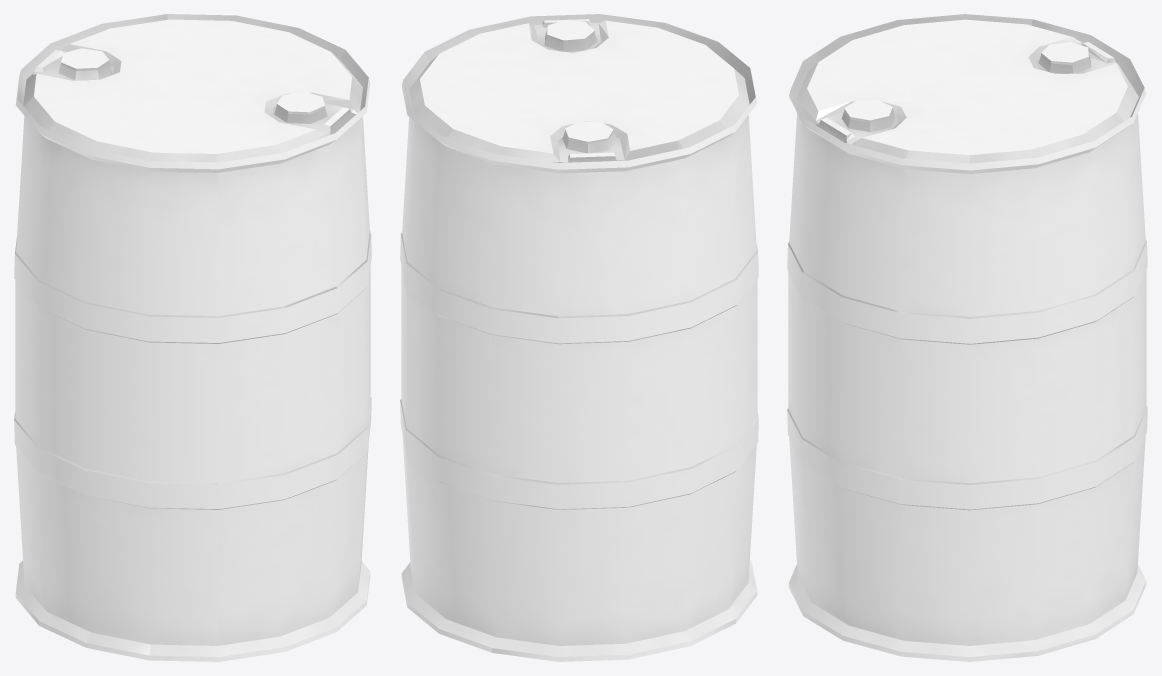
Rendered from Barrel200.glb.
The picture shows the model from 3 angles, left to right: view 1: azimuth 30°, elevation 25°; view 2: azimuth 150°, elevation 25°; view 3: azimuth 270°, elevation 25°; orthographic projection.
Visible parts, largest first — view 1: Barrel200, Barrel200.001; view 2: Barrel200, Barrel200.001; view 3: Barrel200, Barrel200.001.
Part boxes in pixels (<box>): Barrel200: <box>14,14,371,661</box>; Barrel200.001: <box>58,48,327,123</box>; Barrel200: <box>400,14,758,661</box>; Barrel200.001: <box>544,20,616,153</box>; Barrel200: <box>787,14,1147,661</box>; Barrel200.001: <box>841,42,1091,132</box>.
Bounding box in the file's own units: 0.6158 × 0.9519 × 0.6158.
Materials: 1 (1 with a texture image).
